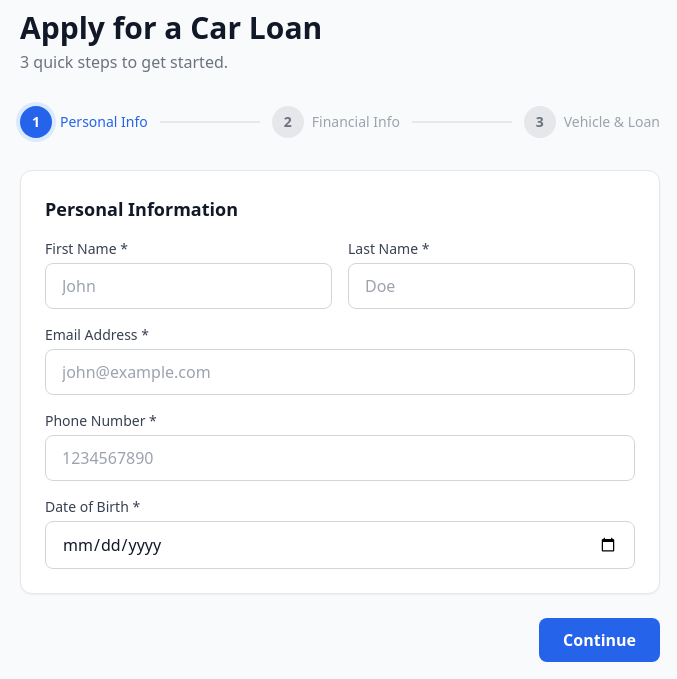
ApplyPage – step navigation › moves to step 2 after valid step 1
Type "Jane" into the field with placeholder "John" at (188, 286), box [45,263,332,309]
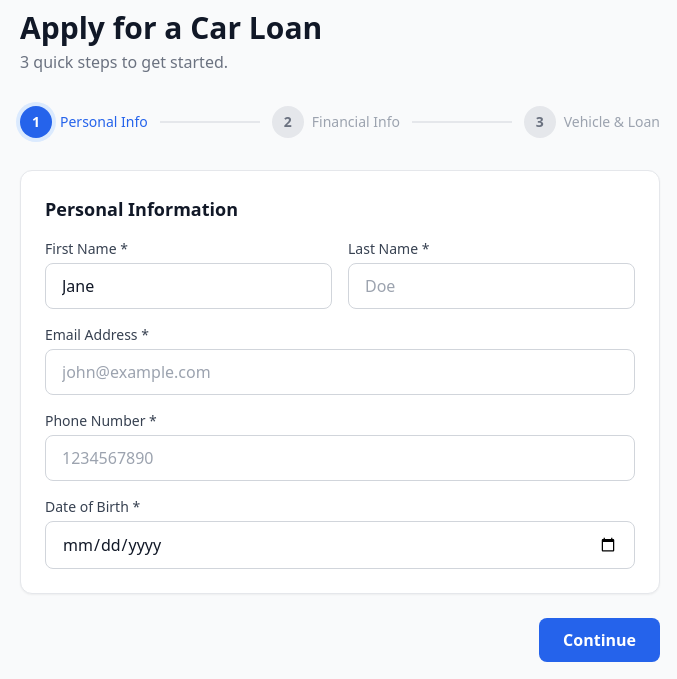
Type "Smith" into the field with placeholder "Doe" at (492, 286), box [348,263,635,309]
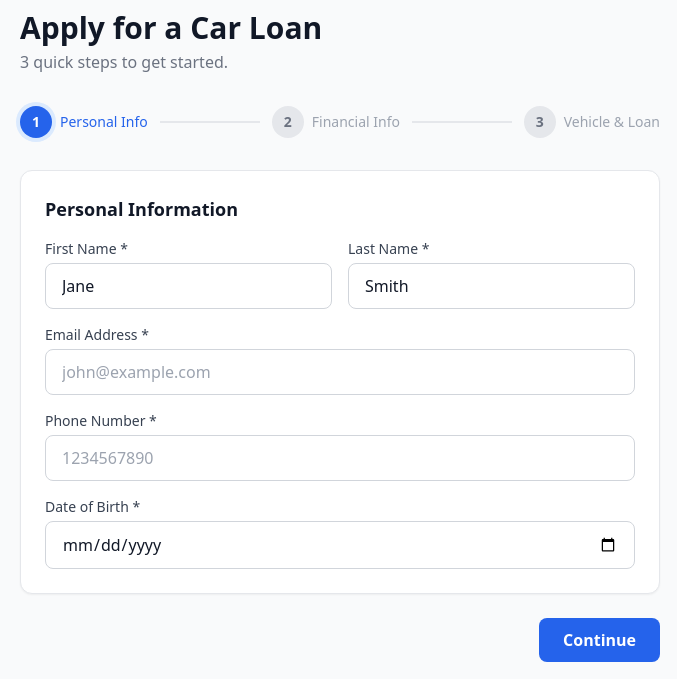
Type "jane@example.com" into the field with placeholder "john@example.com" at (340, 372), box [45,349,635,395]
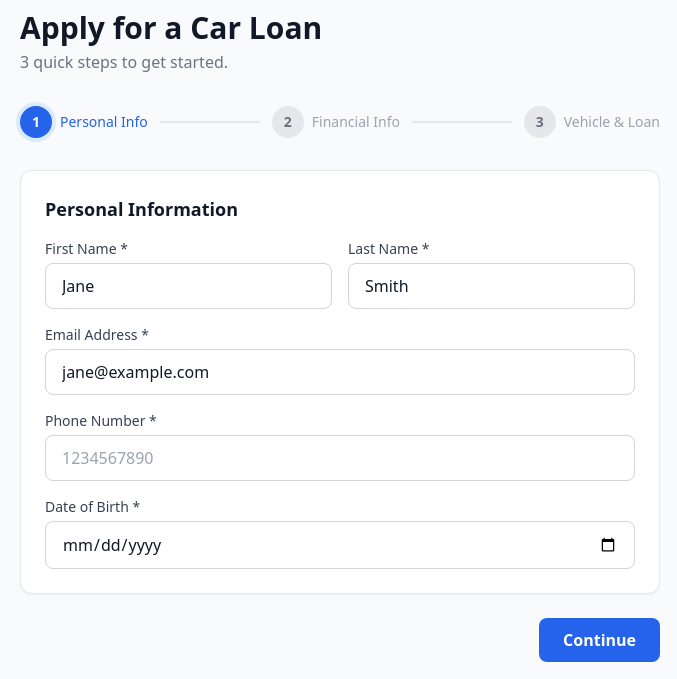
Type "9876543210" into the field with placeholder "1234567890" at (340, 458), box [45,435,635,481]
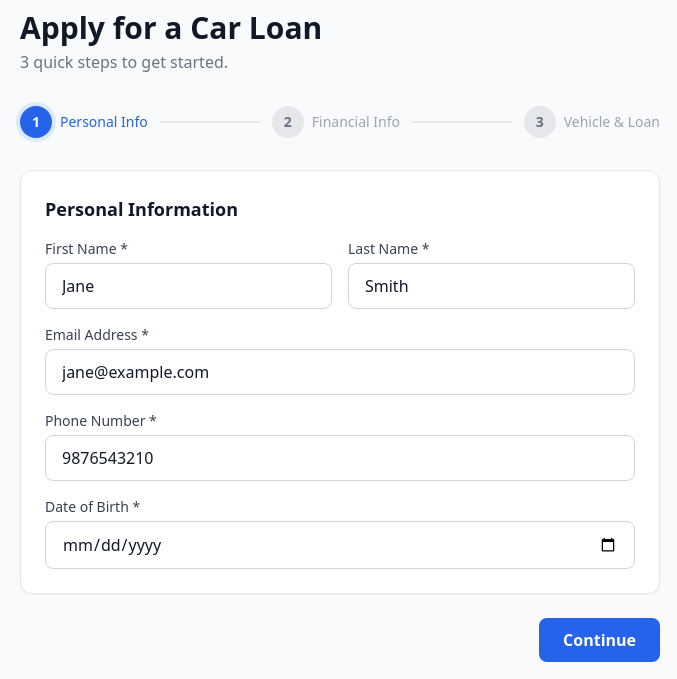
Type "1990-06-15" into the date field at (340, 545), box [45,521,635,569]
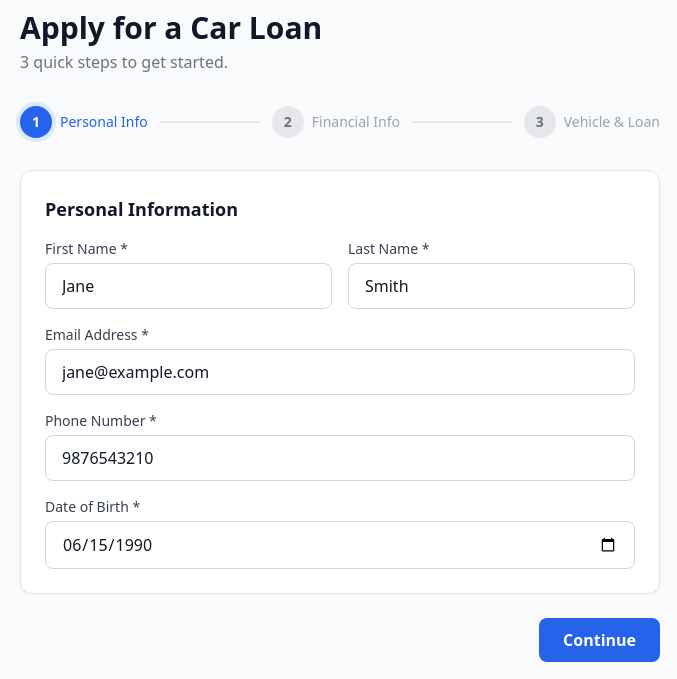
Click the button "Continue" at (600, 640), box [539,618,660,662]
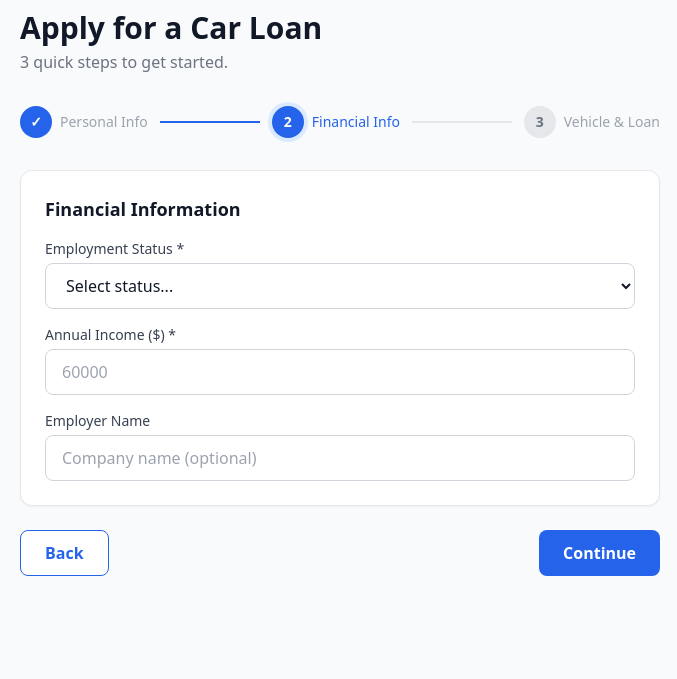
Result: the heading "Financial Information" is shown at [45,197,241,221]
